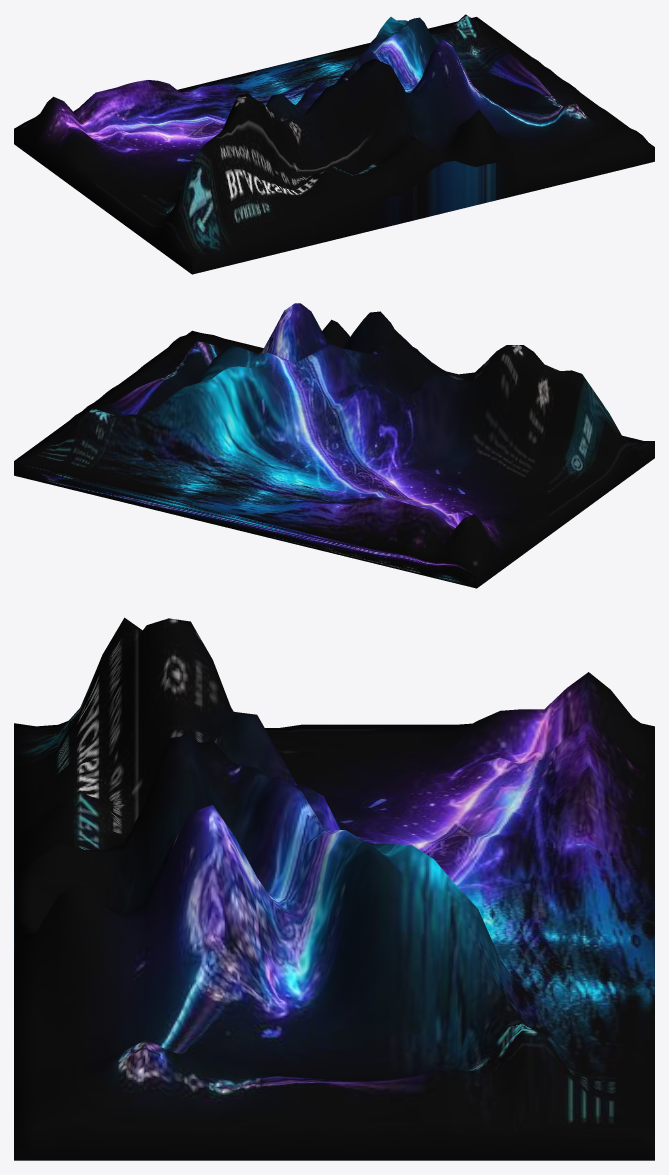
File: CAREER_15_VFX_04_Weapon_Glow.glb
3 renders of one model, top to bottom at view 1: azimuth 30°, elevation 25°; view 2: azimuth 150°, elevation 25°; view 3: azimuth 270°, elevation 25°, orthographic. The views are drawn at different scales.
Visible parts, largest first — view 1: CAREER_15_VFX_04_Weapon_Glow; view 2: CAREER_15_VFX_04_Weapon_Glow; view 3: CAREER_15_VFX_04_Weapon_Glow.
Boxes of the visible parts, <box> form: CAREER_15_VFX_04_Weapon_Glow: <box>14,14,654,274</box>; CAREER_15_VFX_04_Weapon_Glow: <box>14,303,654,588</box>; CAREER_15_VFX_04_Weapon_Glow: <box>14,617,654,1160</box>.
Size of the model in its own units: 2 by 0.51 by 1.33.
1 material, 1 textured.
